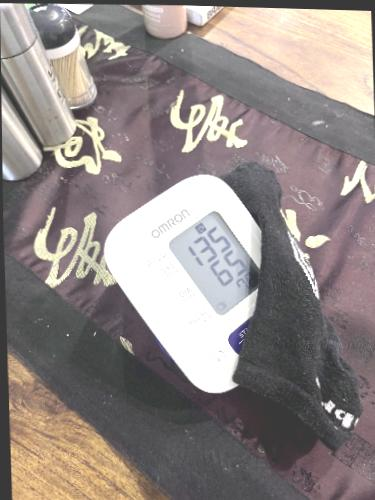bpm: (164, 207, 270, 319)
